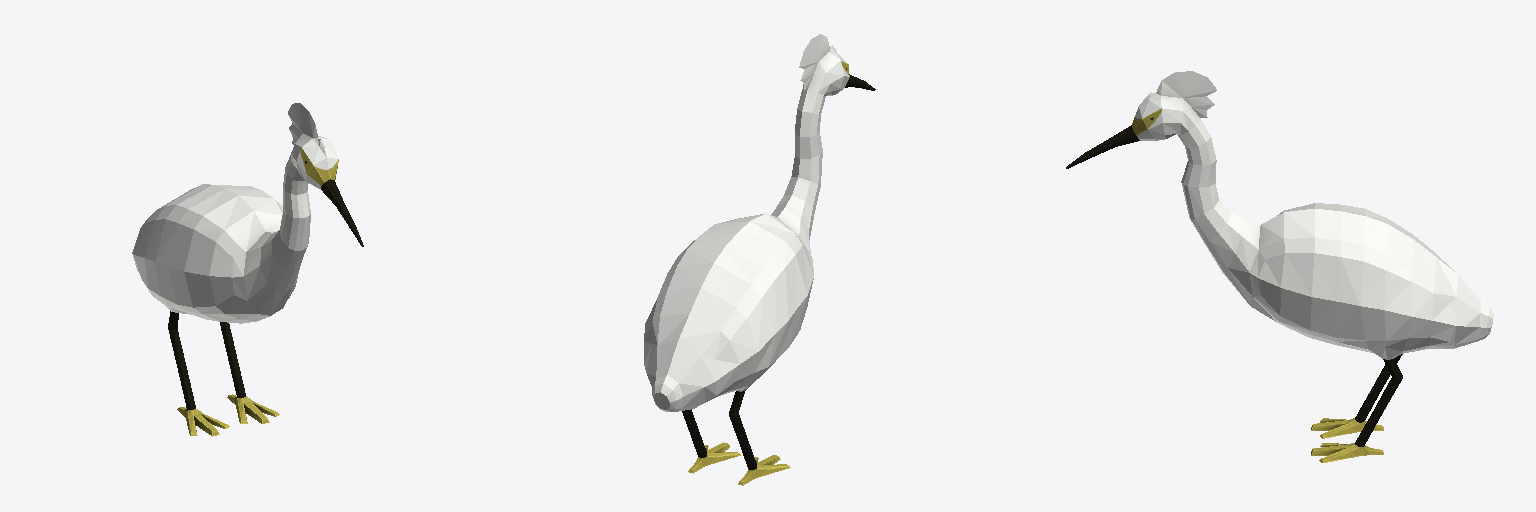
The picture shows the model from 3 angles: view 1: azimuth 30°, elevation 25°; view 2: azimuth 150°, elevation 25°; view 3: azimuth 270°, elevation 25°; orthographic projection.
Visible parts, largest first — view 1: SnowyEgret_mesh; view 2: SnowyEgret_mesh; view 3: SnowyEgret_mesh.
Part boxes in pixels (x1,y1,x2,y2): SnowyEgret_mesh: (132, 103, 363, 436); SnowyEgret_mesh: (644, 34, 875, 485); SnowyEgret_mesh: (1066, 71, 1493, 462).
Size of the model in its own units: 3.28 by 9.54 by 10.02.
1 materials, 1 textured.